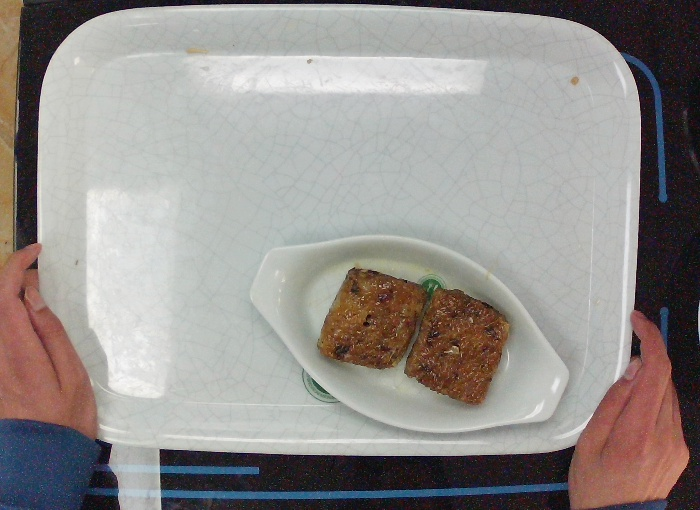JYsf-Yu_Pan: (242, 230, 573, 443)
